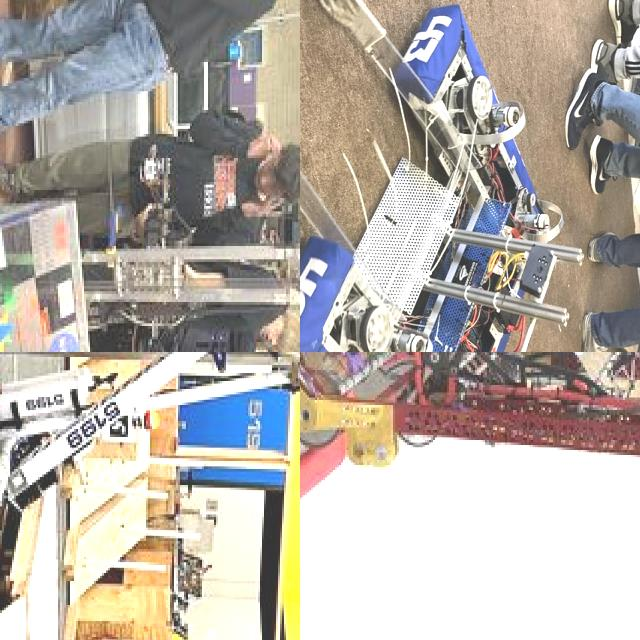FRC-Robots: (300, 0, 640, 352), (0, 352, 300, 640), (300, 352, 640, 585), (0, 114, 300, 352)
